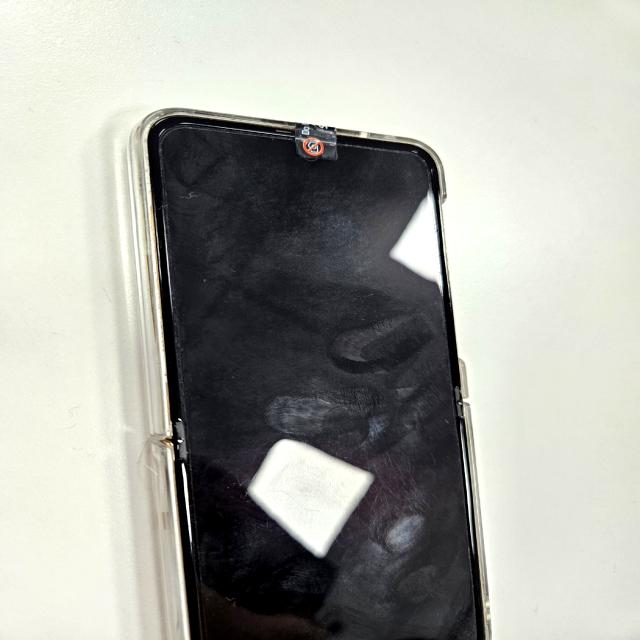phone: (132, 105, 495, 640), (286, 118, 345, 162)
